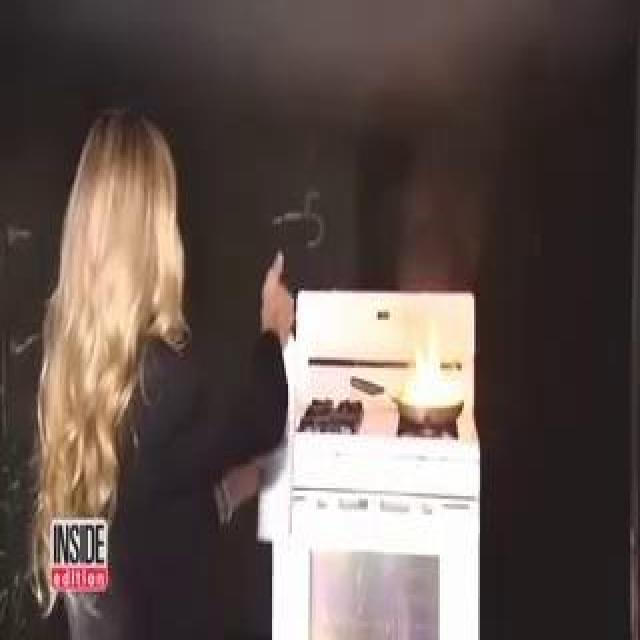Fire: (84, 142, 430, 346)
